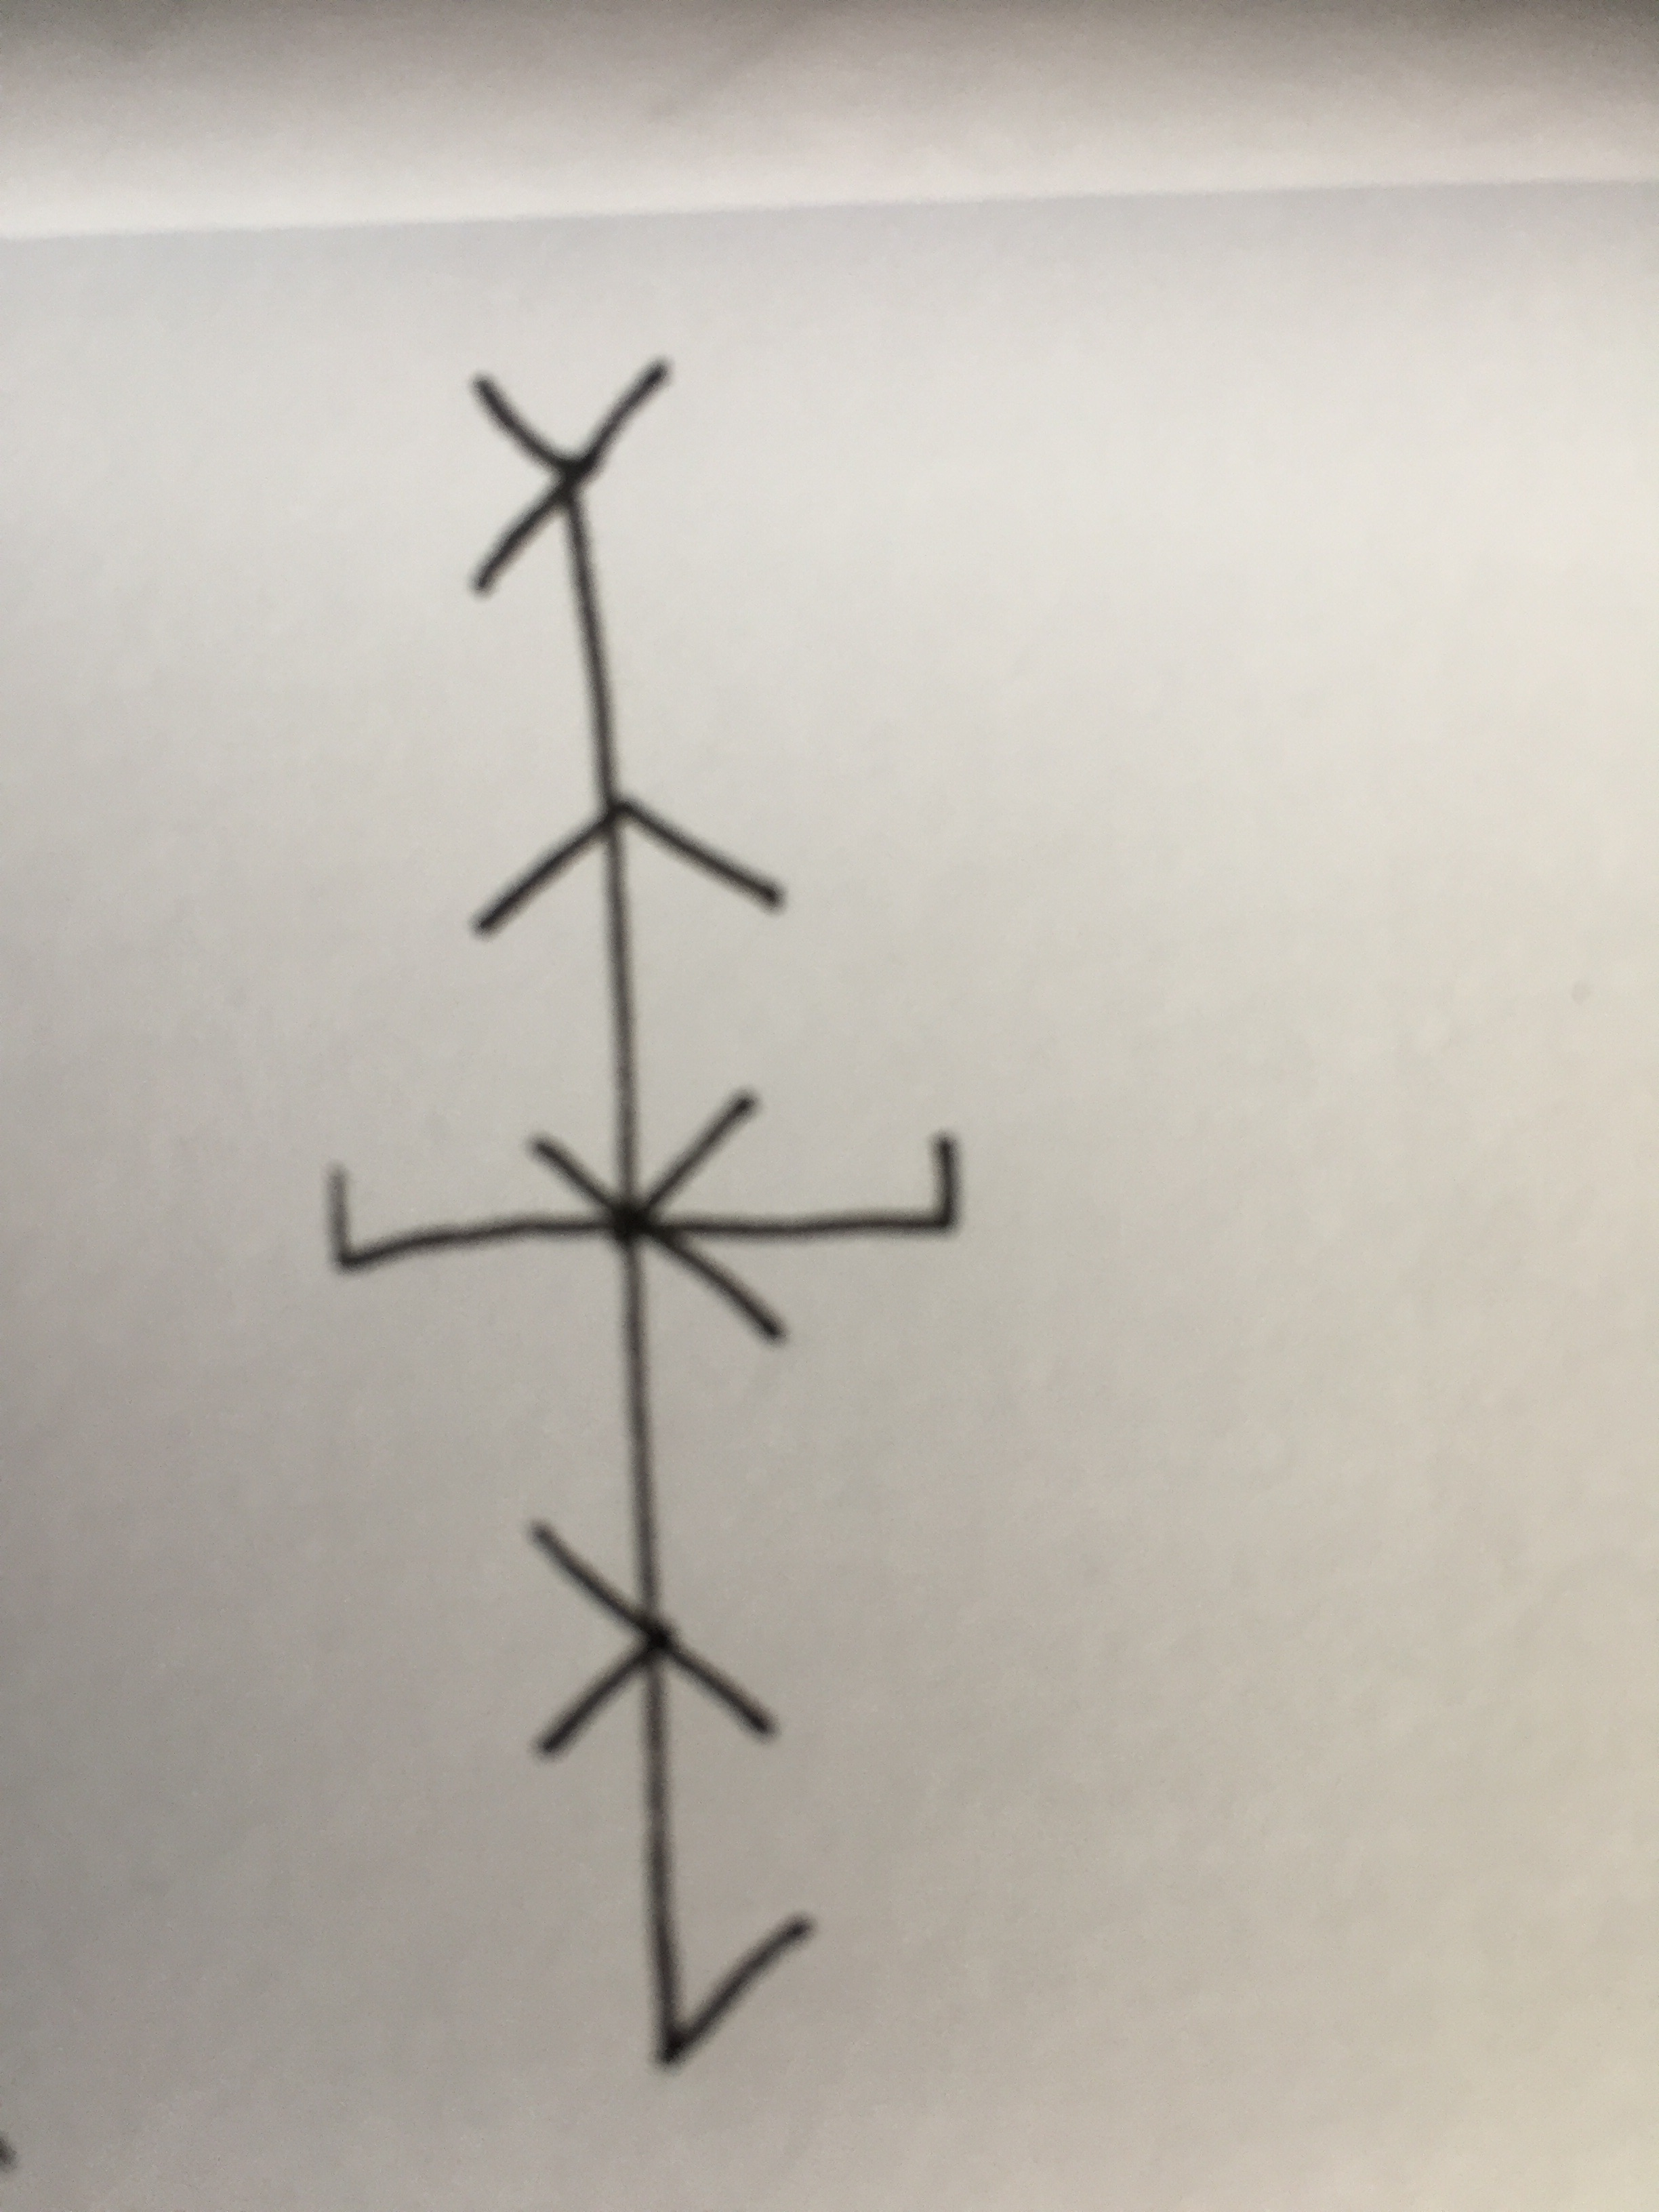Bar: (464, 357, 821, 2074)
Barcode: (326, 357, 964, 2074)
End: (737, 1132, 962, 1252)
Start: (326, 1163, 547, 1278)
